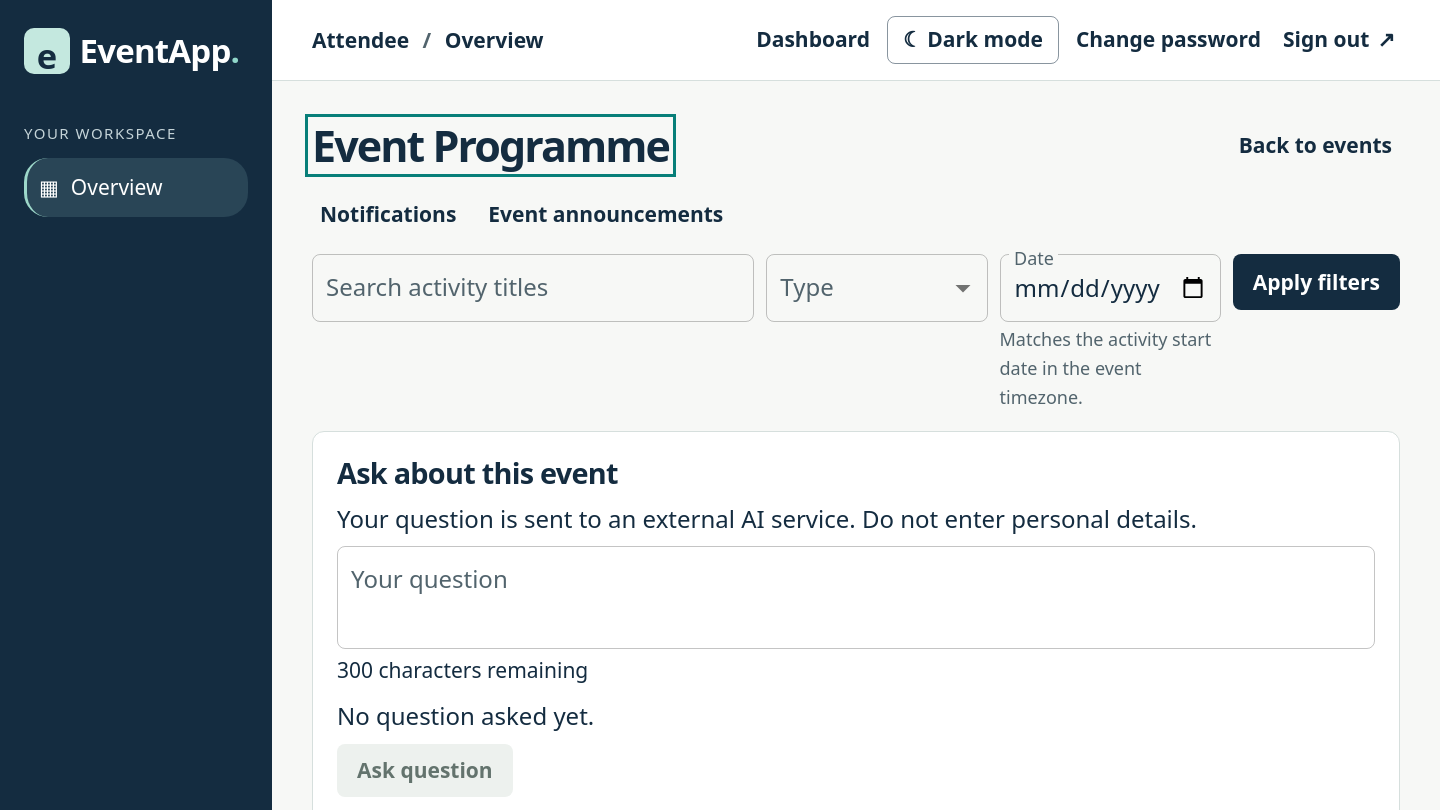
it: F03-US02 attendee event question UI (AC01-AC06) › F03Q-UI07 an answered job lists verified facts with title, revision, field, value, Cancelled marker and a link, then the AI summary
Expected: the heading "Event Programme" is shown, [312,121,669,170]
Click the text box labelled "Your question": (856,598) [351,563,1361,633]
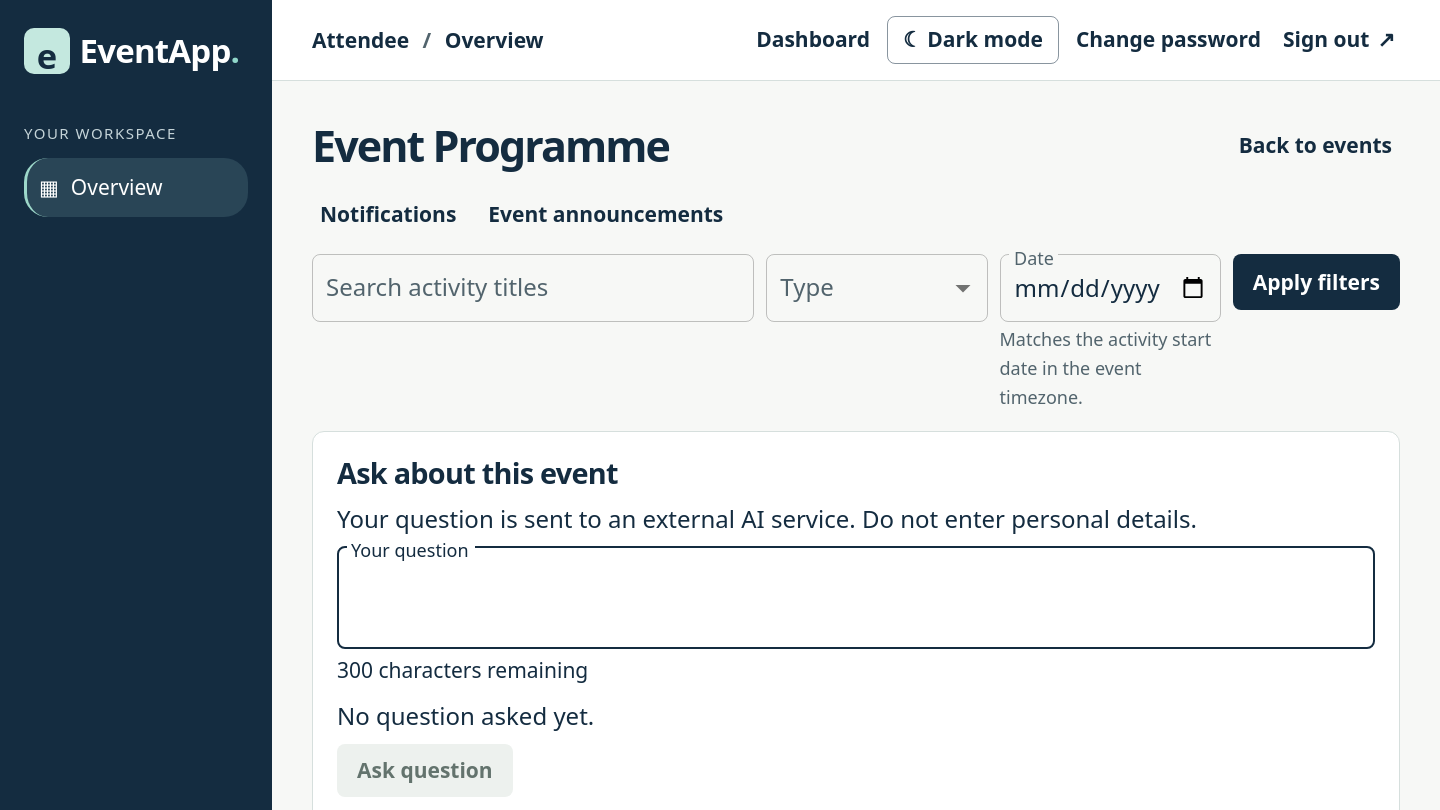
Type keys "When does the evening workshop start and what does it cost?"
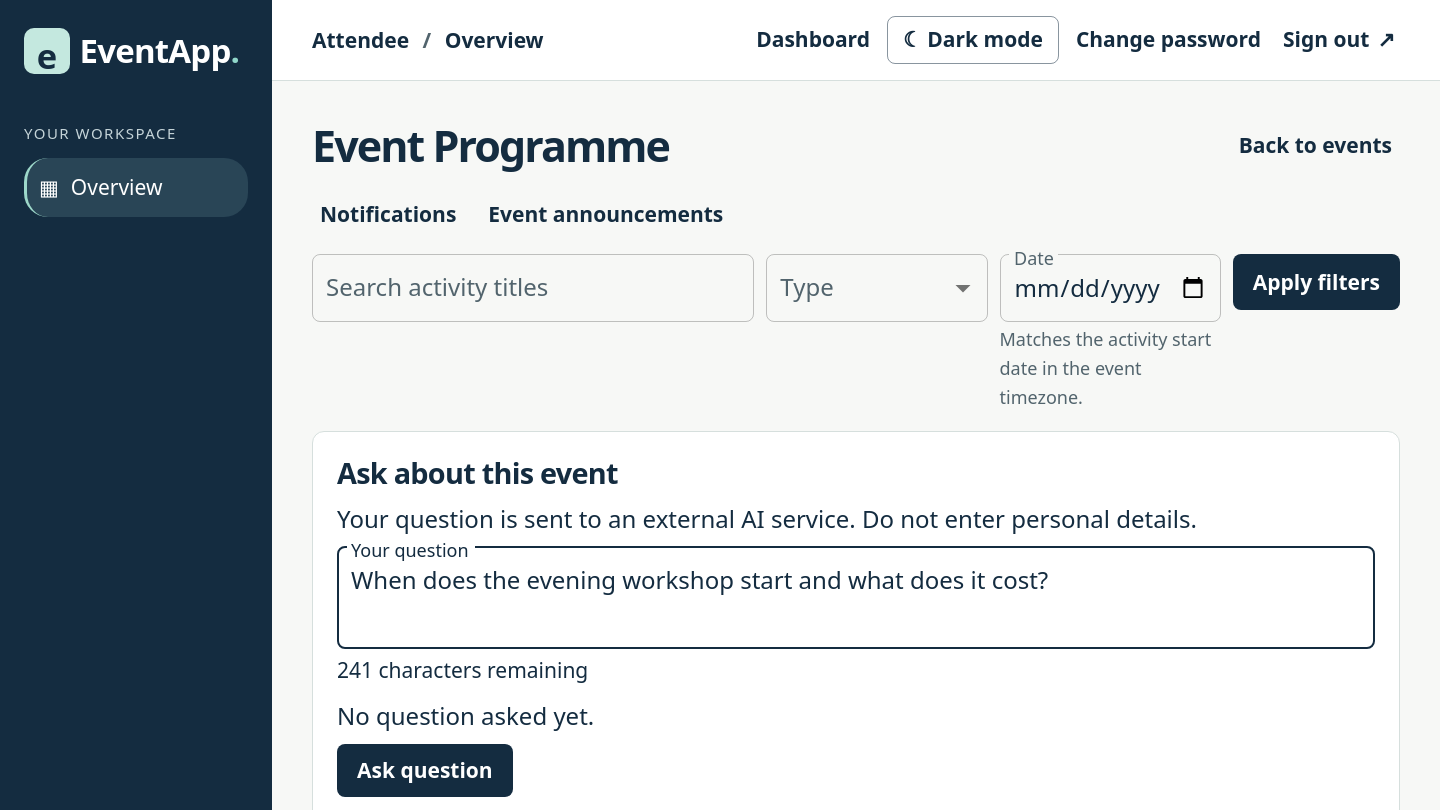
Click the button "Ask question": (425,770) [337,744,513,797]
(page scrolled)
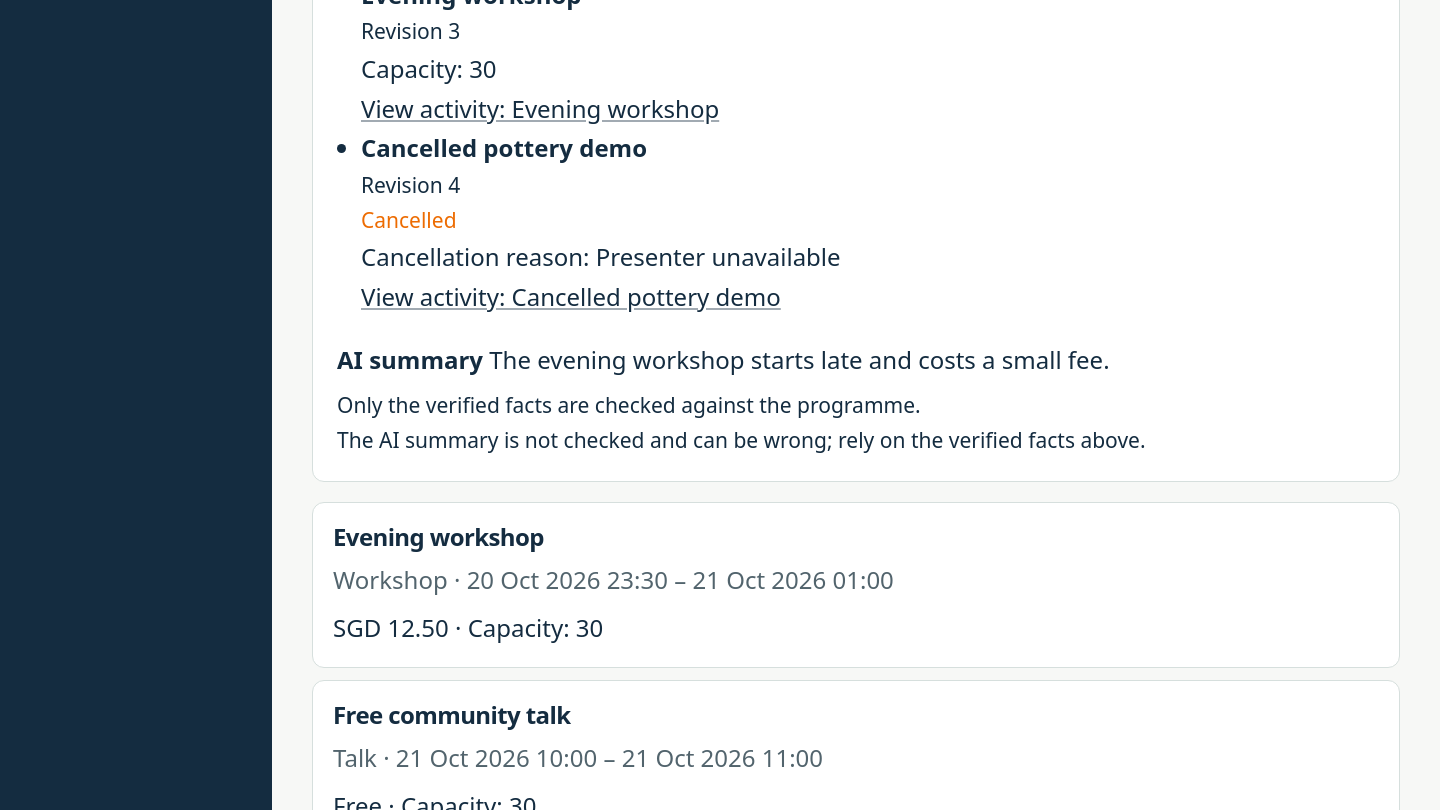
Expected: the number of list items is 6
Expected: the list item that starts with "Evening workshop" shows "Revision 3", [361,18,460,46]
Expected: the list item that starts with "Evening workshop" shows "Capacity: 30", [361,52,497,85]
